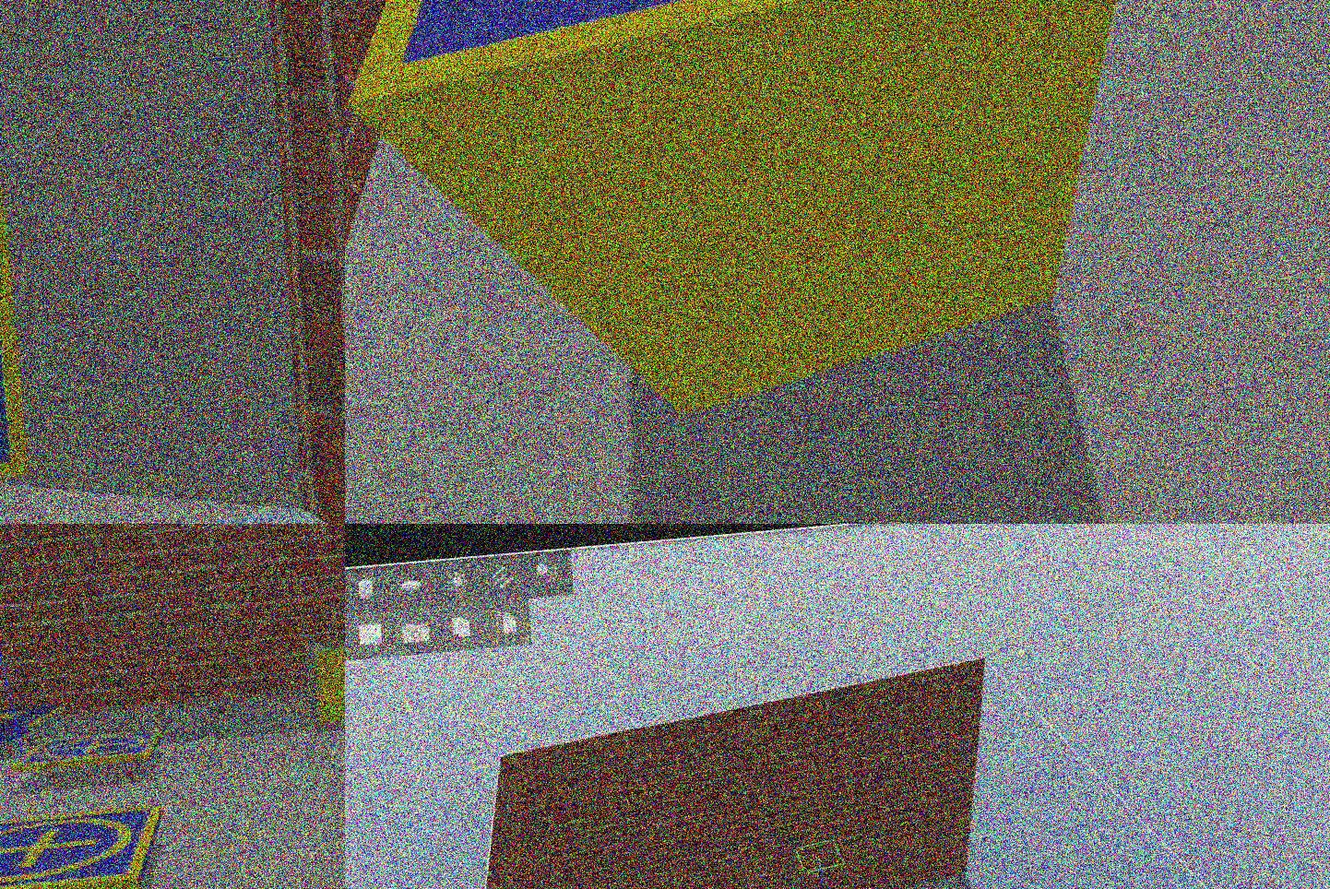small_base: (346, 1, 1144, 108), (1, 805, 174, 889), (13, 730, 172, 779)
